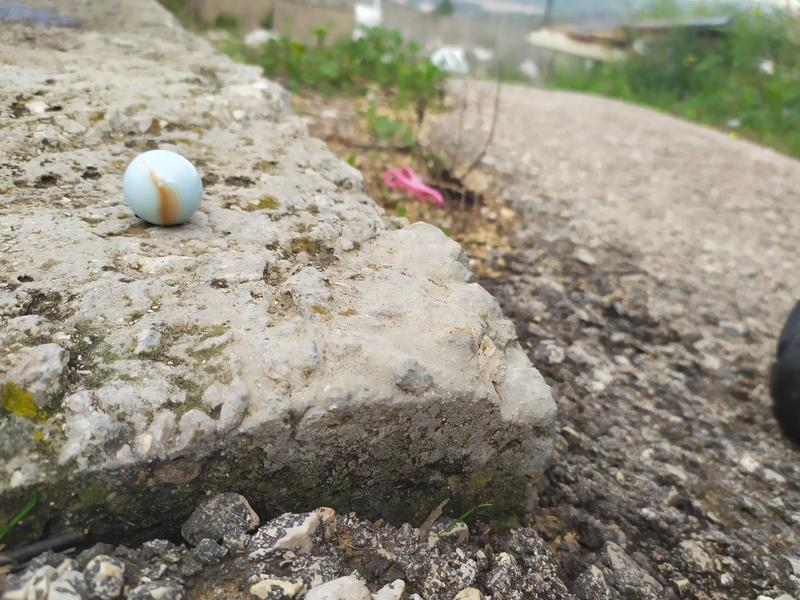Warning: (120, 147, 206, 229)
